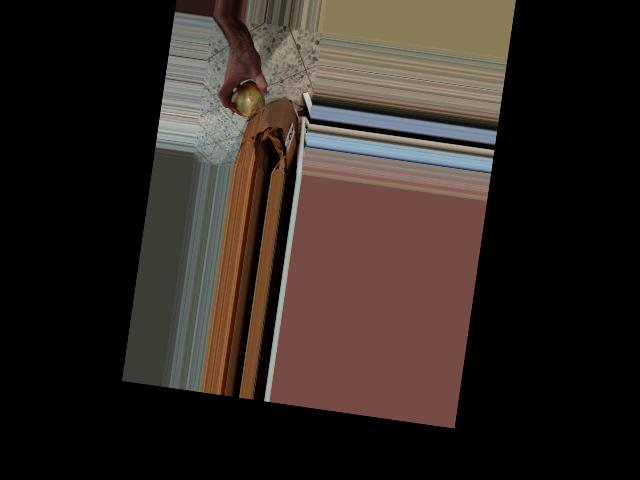onion: (226, 78, 269, 123)
